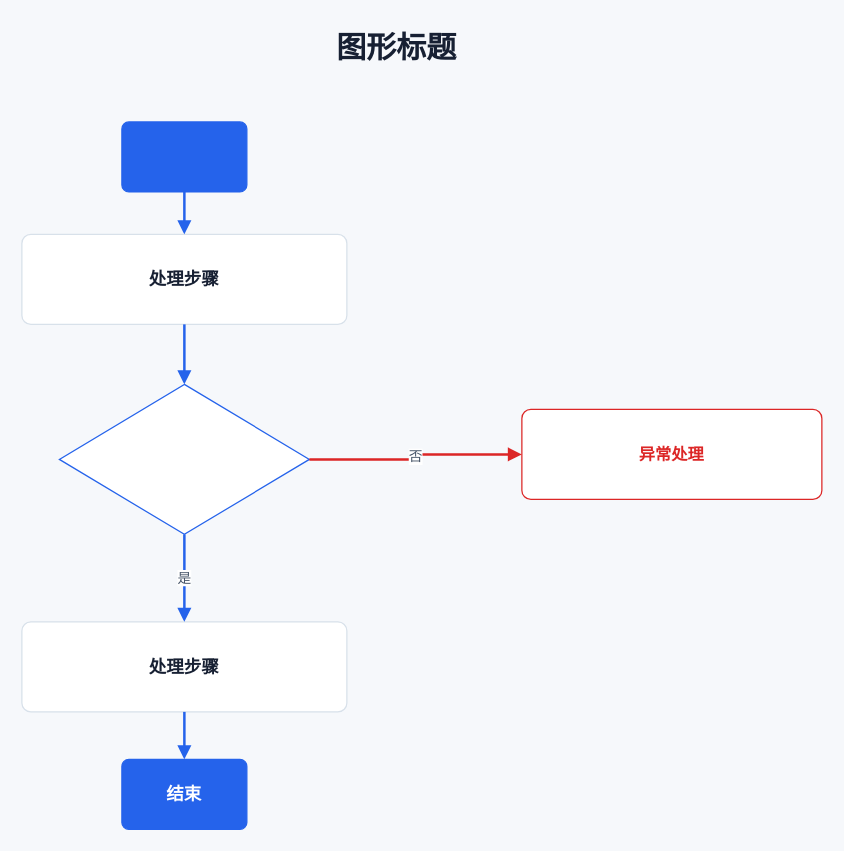
The diagram is 844 pixels wide and 851 high, and some of its shapes have lost their labels. The centre of each missing label's shape, as x and y in pixels:
开始: (184,156)
条件判断: (183,458)
